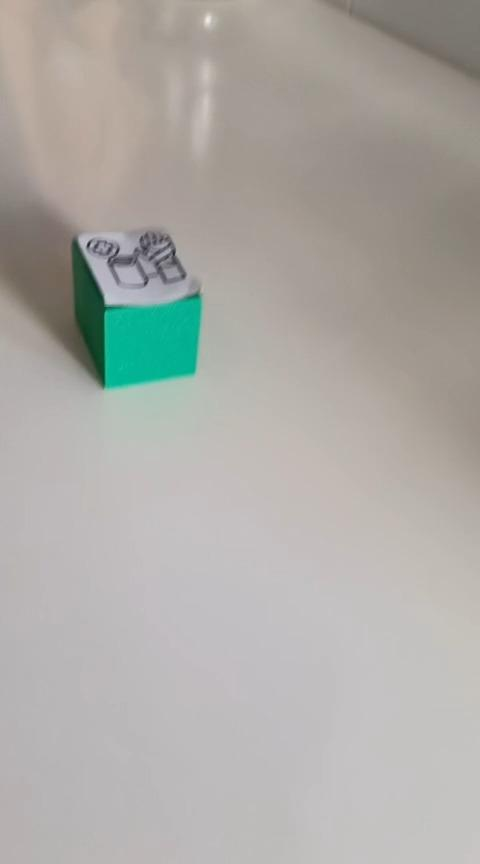Bandages: (70, 227, 203, 389)
